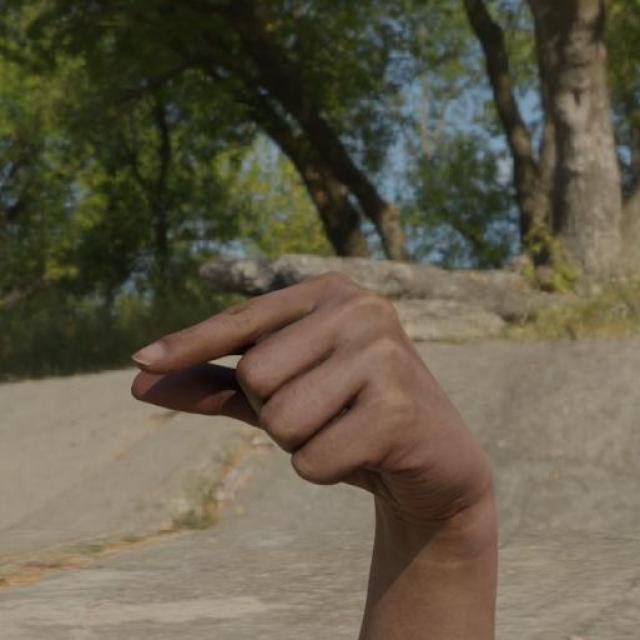G: (121, 272, 507, 540)
